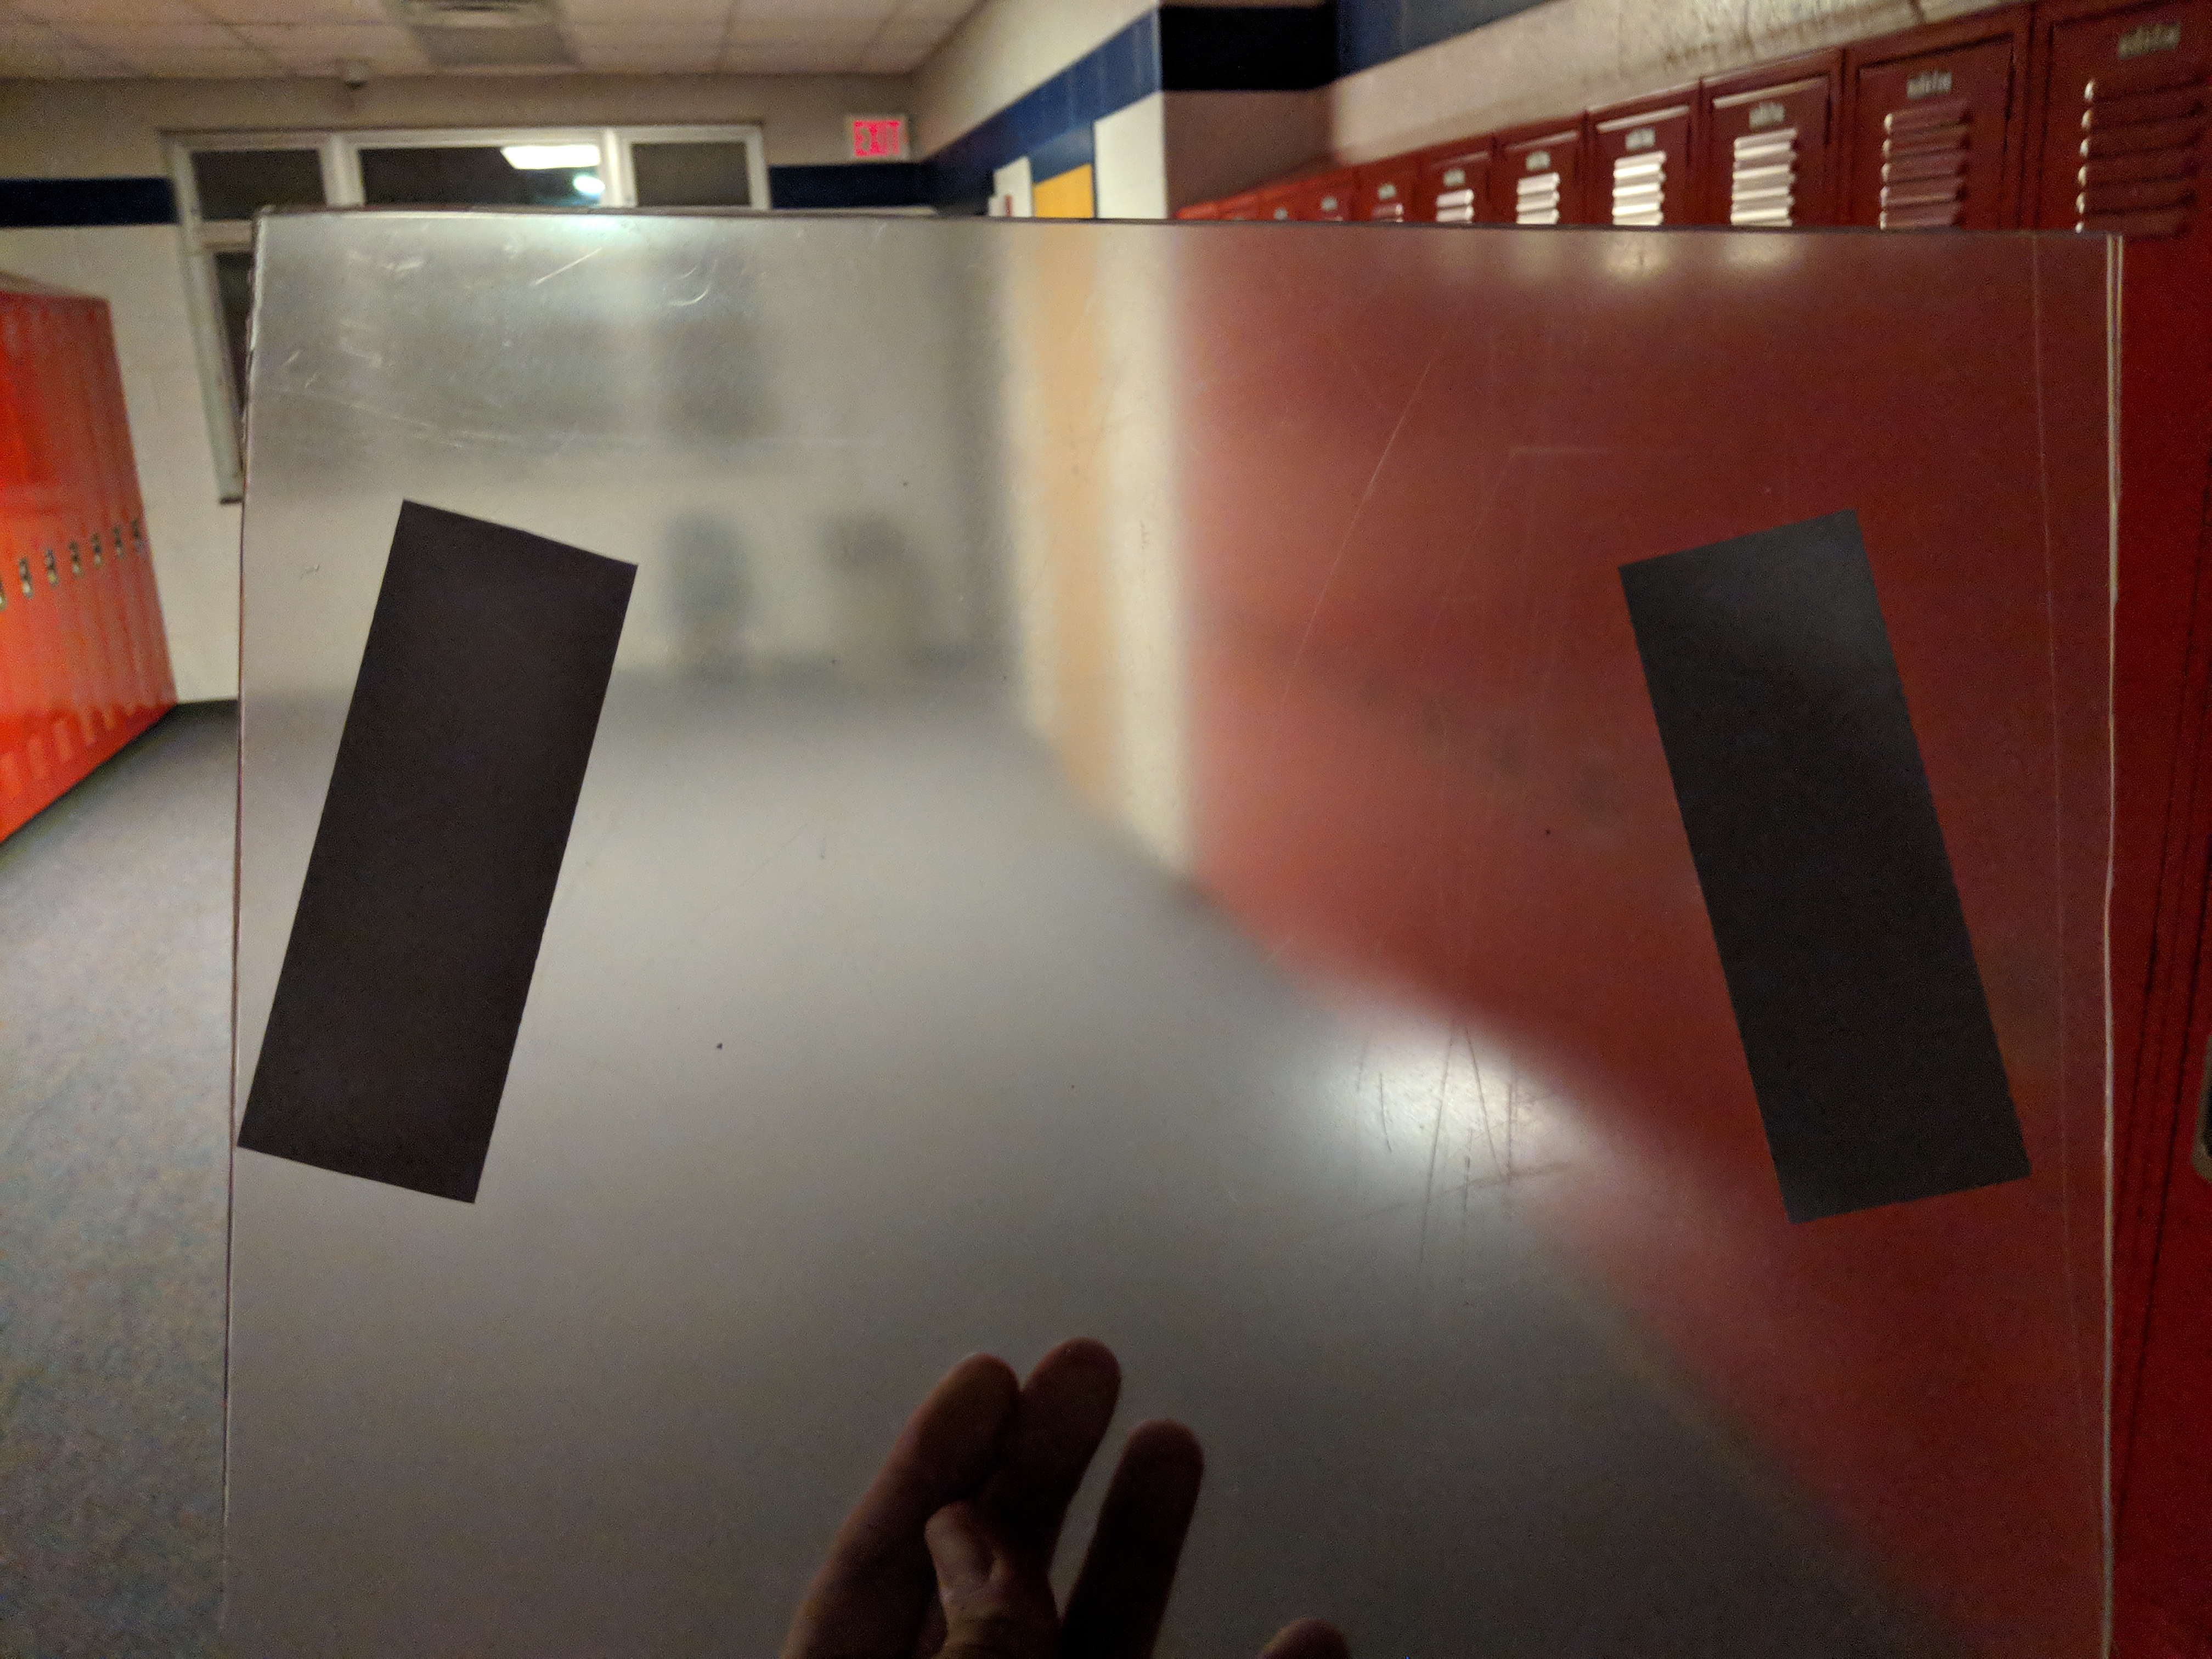vision_target: (225, 479, 2050, 1239)
